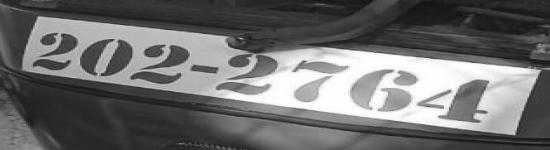-: (183, 61, 223, 78)
0: (69, 30, 149, 83)
2: (206, 45, 300, 102), (120, 36, 201, 90), (25, 24, 90, 77)
4: (403, 66, 514, 130)
6: (326, 61, 438, 121)
7: (264, 51, 367, 112)
